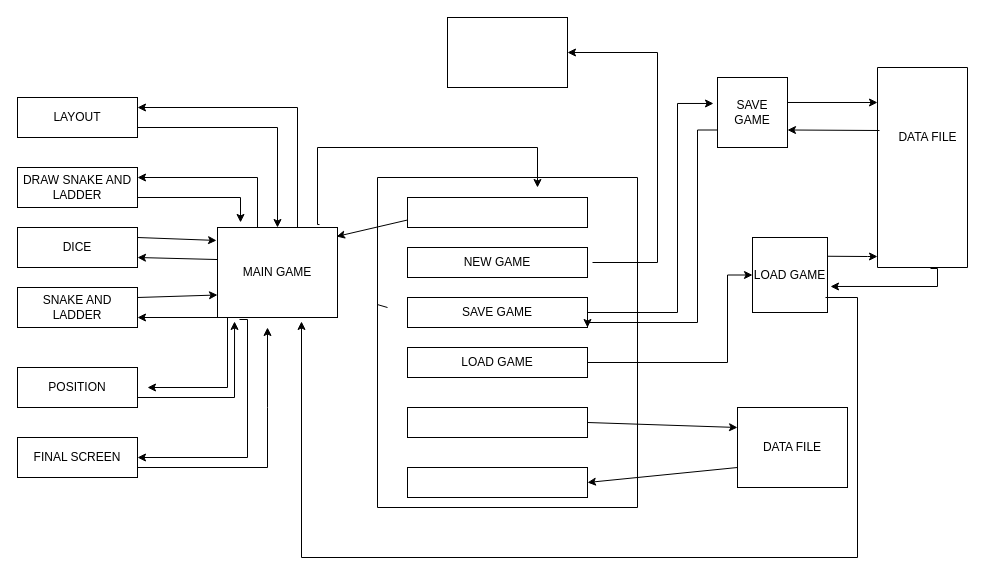
Image size: 985x583. Some labels were removed from this diagram. The shapes that lost their labels are listed below. From the top down, each one's centre as x and y in pixels, then its label:
the point at 507,52: NEW GAME P1=0,P2=0
the point at 497,212: RESUME
the point at 497,422: TUTORIAL
the point at 497,482: EXIT
